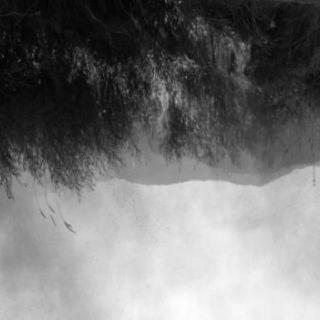Fire: (142, 14, 252, 163)
